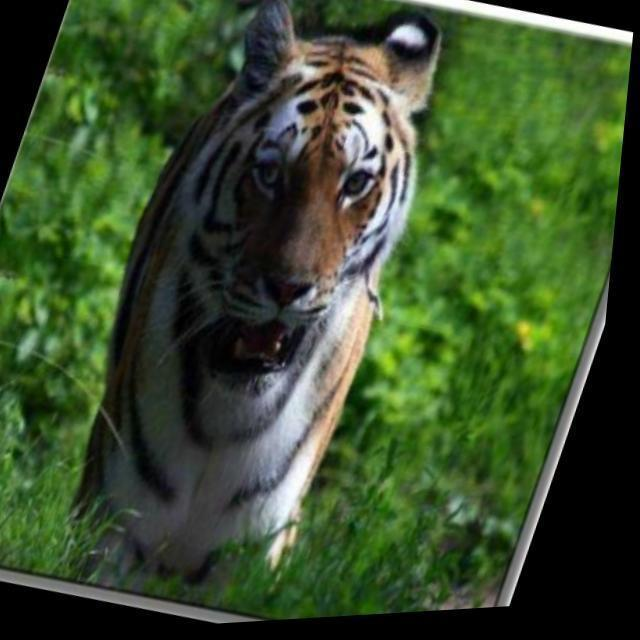tiger: (66, 0, 443, 592)
